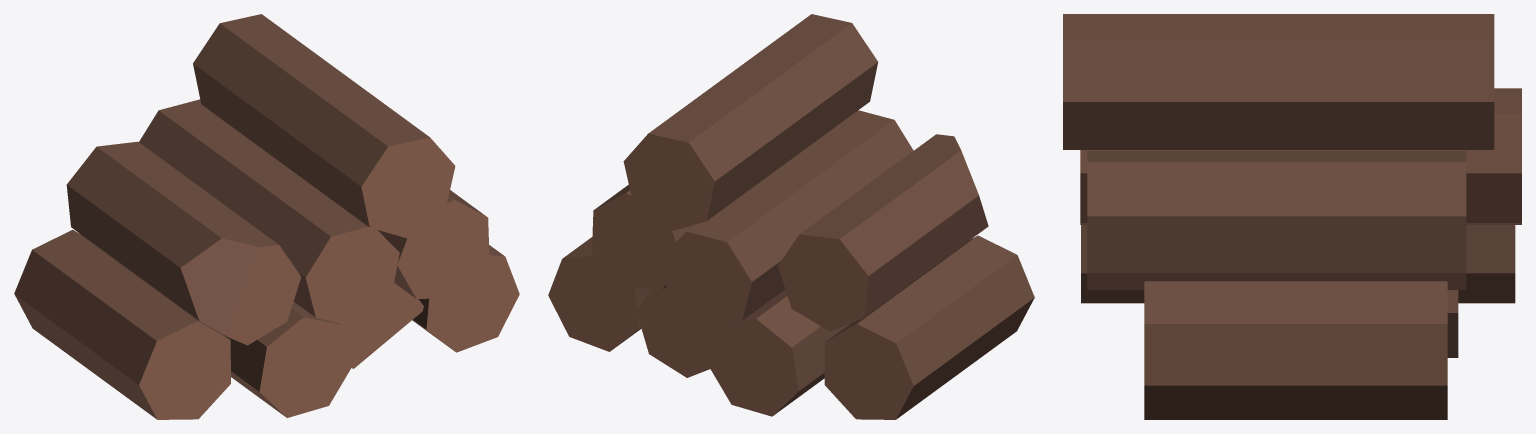
File: LPHorror_SmallLogPile.fbx
3 views of the same model, side by side, from view 1: azimuth 30°, elevation 25°; view 2: azimuth 150°, elevation 25°; view 3: azimuth 270°, elevation 25° (orthographic). The views are drawn at different scales.
Visible parts, largest first — view 1: SmallLogPile; view 2: SmallLogPile; view 3: SmallLogPile.
Boxes of the visible parts, x1,y1,x2,y2 form: SmallLogPile: (14,14,519,419); SmallLogPile: (548,14,1034,419); SmallLogPile: (1063,14,1521,419).
Bounding box in the file's own units: 94.1 × 60.51 × 76.48.
